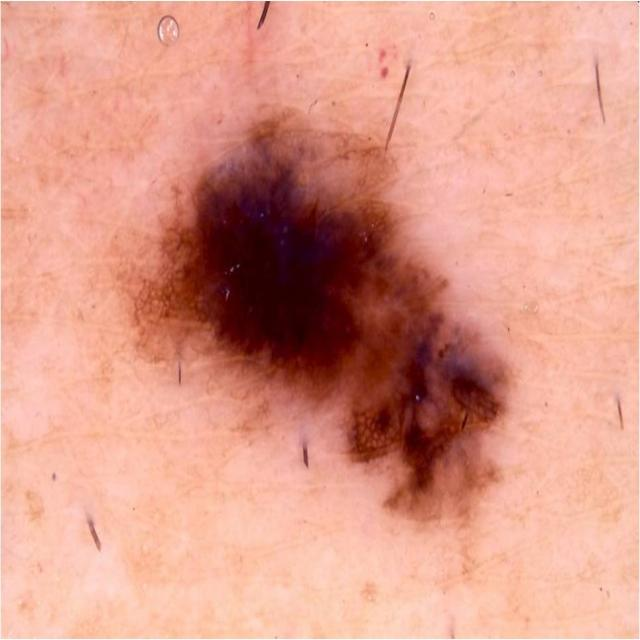Melanoma: (122, 108, 526, 532)
